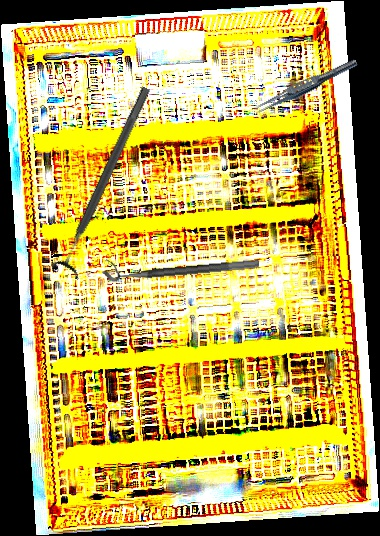Fixation Ring: (49, 81, 162, 281), (101, 246, 260, 283)
Tissue Forceps: (251, 54, 360, 119)
